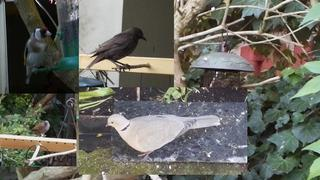collared dove: (106, 114, 221, 160)
dunnock: (26, 120, 50, 137)
goldfinch: (24, 27, 52, 85)
starling: (86, 27, 147, 73)
